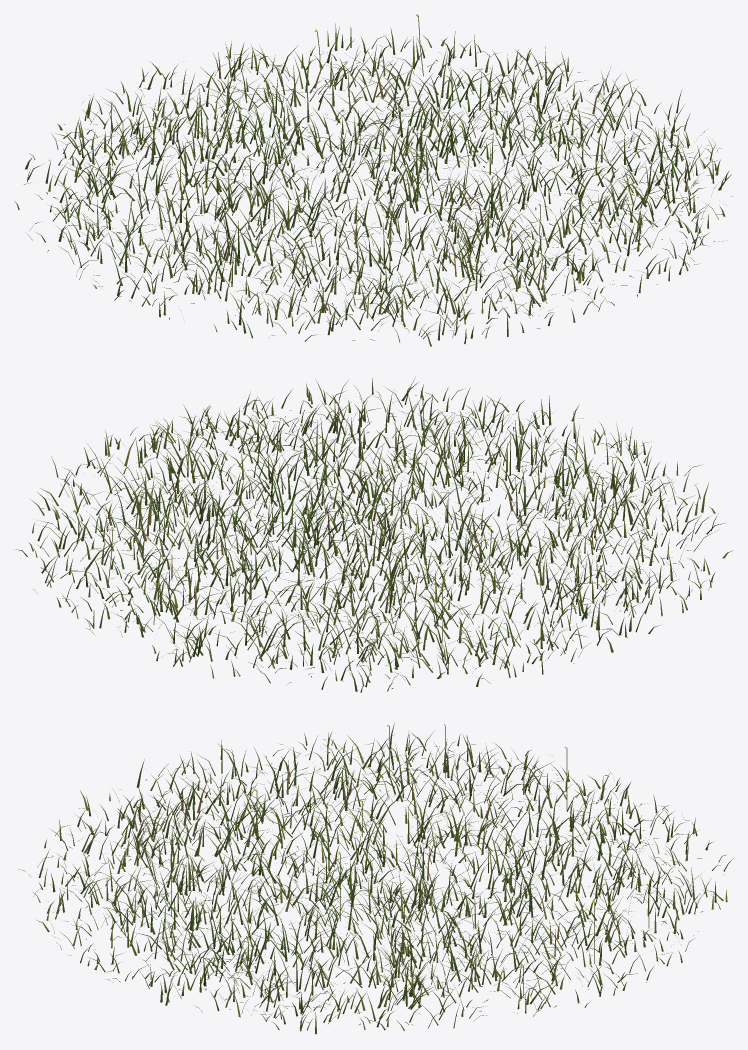
File: carpet_green.glb
The picture shows the model from 3 angles, top to bottom: view 1: azimuth 30°, elevation 25°; view 2: azimuth 150°, elevation 25°; view 3: azimuth 270°, elevation 25°; orthographic projection. The views are drawn at different scales.
Parts seen in each view (by area): view 1: carpet_green; view 2: carpet_green; view 3: carpet_green.
Boxes of the visible parts, x1=… form: carpet_green: x1=14, y1=14, x2=731, y2=346; carpet_green: x1=14, y1=378, x2=733, y2=692; carpet_green: x1=18, y1=723, x2=732, y2=1034.
Bounding box in the file's own units: 1.91 × 0.2034 × 1.96.
